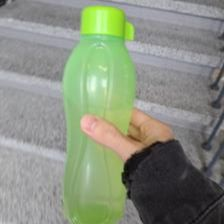bottle: (58, 5, 141, 221)
